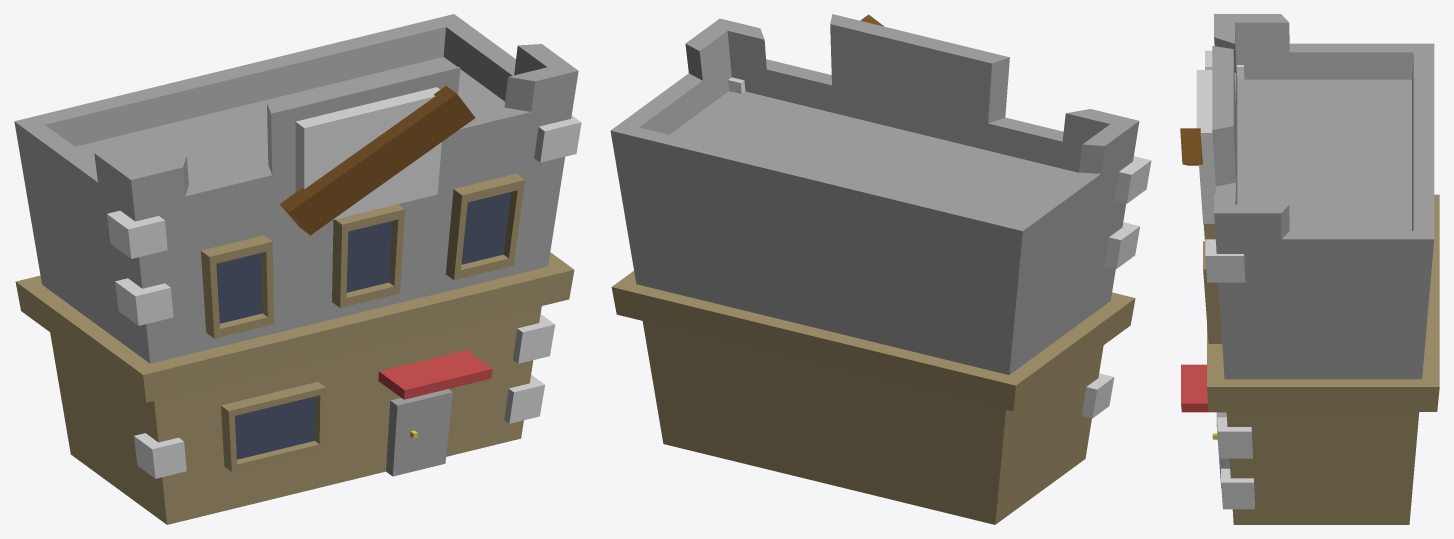
Rendered from building2.fbx.
The picture shows the model from 3 angles, left to right: view 1: azimuth 30°, elevation 25°; view 2: azimuth 150°, elevation 25°; view 3: azimuth 270°, elevation 25°; orthographic projection. The views are drawn at different scales.
Parts seen in each view (by area): view 1: Cube124; view 2: Cube124; view 3: Cube124.
Part boxes in pixels (left/top/right/bottom): Cube124: left=14, top=14, right=581, bottom=524; Cube124: left=610, top=14, right=1151, bottom=524; Cube124: left=1180, top=14, right=1439, bottom=524.
Size of the model in its own units: 3038 by 2532 by 1643.
